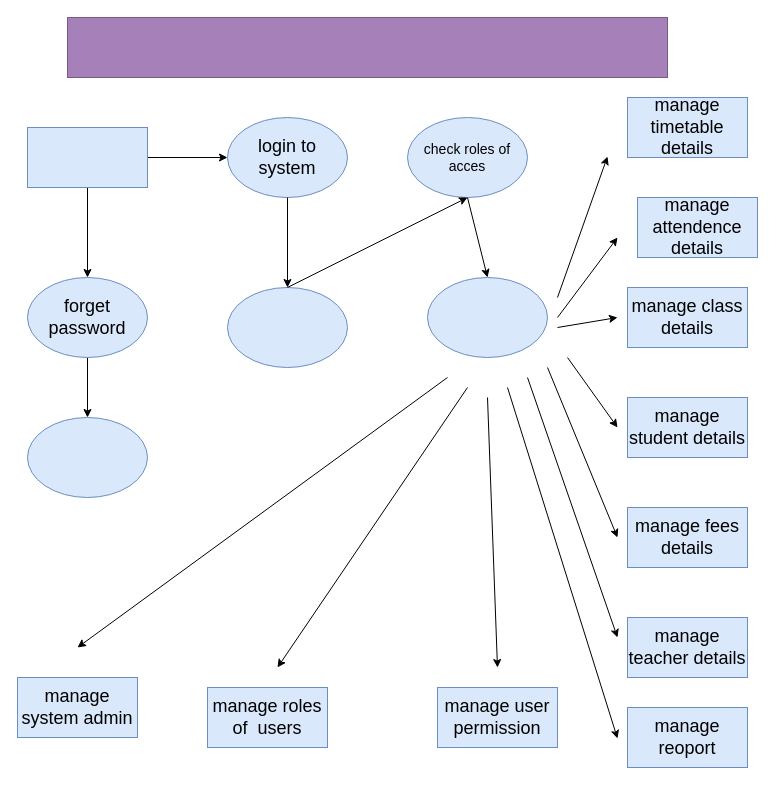
Some shapes in this 775 by 785 pixel diagram are drawn without their labels. Here are the shapes that lost their labels. From the top down, the centre of each, then its label:
At (x=367, y=47): "STUDENT INFORMATION SYSTEM".
At (x=87, y=157): "Admin".
At (x=287, y=327): "check credentials".
At (x=487, y=317): "manage modules".
At (x=87, y=457): "send email to user".
